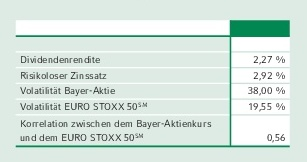table: (0, 0, 307, 162)
